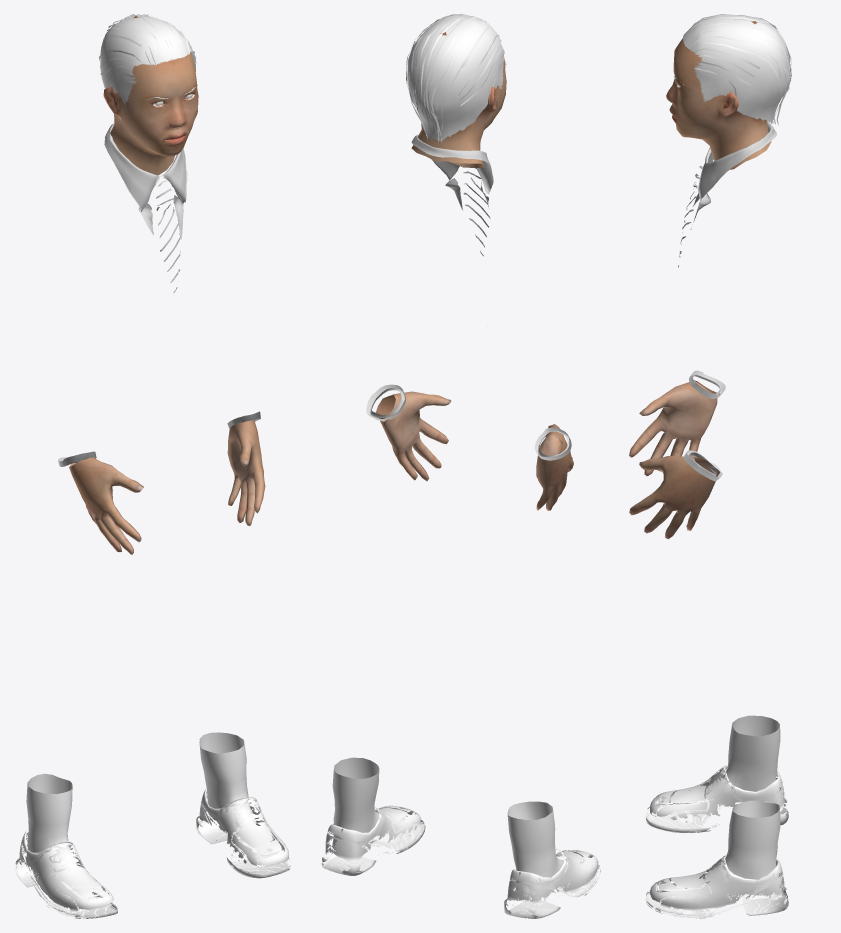
Rendered from ped03.fbx.
3 renders of one model, left to right at view 1: azimuth 30°, elevation 25°; view 2: azimuth 150°, elevation 25°; view 3: azimuth 270°, elevation 25°, orthographic.
Parts seen in each view (by area): view 1: Human.shoes01, Human.male1591, Human.short04, Human.male_elegantsuit01; view 2: Human.shoes01, Human.short04, Human.male1591, Human.male_elegantsuit01; view 3: Human.shoes01, Human.male1591, Human.short04, Human.male_elegantsuit01.
Boxes of the visible parts, left/top/right/bottom form: Human.shoes01: left=15, top=732, right=290, bottom=918; Human.male1591: left=69, top=16, right=265, bottom=554; Human.short04: left=99, top=14, right=196, bottom=105; Human.male_elegantsuit01: left=58, top=124, right=260, bottom=466; Human.shoes01: left=321, top=757, right=600, bottom=918; Human.short04: left=406, top=14, right=504, bottom=142; Human.male1591: left=375, top=32, right=573, bottom=510; Human.male_elegantsuit01: left=366, top=134, right=571, bottom=460; Human.shoes01: left=645, top=715, right=788, bottom=918; Human.male1591: left=629, top=21, right=771, bottom=539; Human.short04: left=682, top=14, right=791, bottom=125; Human.male_elegantsuit01: left=678, top=122, right=776, bottom=481.
Bounding box in the file's own units: 47.34 × 165 × 34.91.
